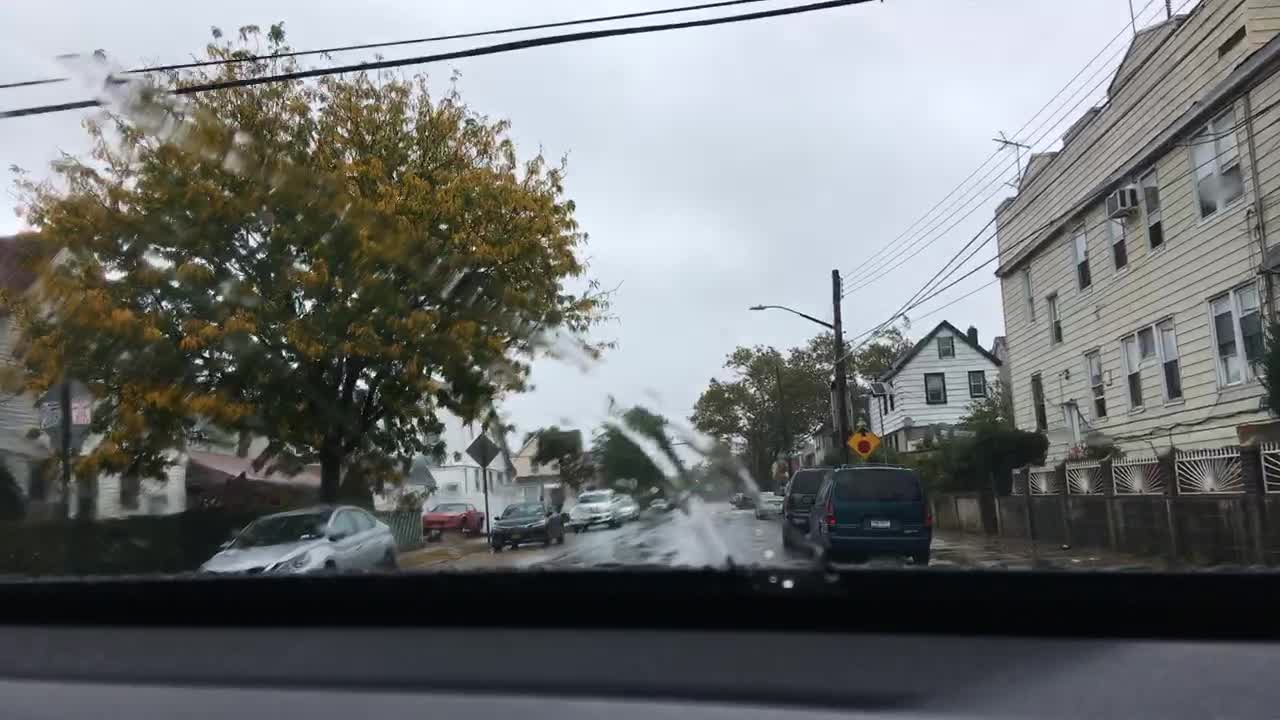car: (199, 487, 405, 574), (804, 463, 932, 568), (773, 463, 832, 545), (483, 499, 568, 548), (421, 502, 489, 537), (573, 488, 620, 527), (748, 488, 788, 515), (612, 490, 643, 520), (645, 496, 670, 512), (731, 485, 748, 502)
traffic sign: (841, 421, 881, 459), (464, 434, 498, 468)
